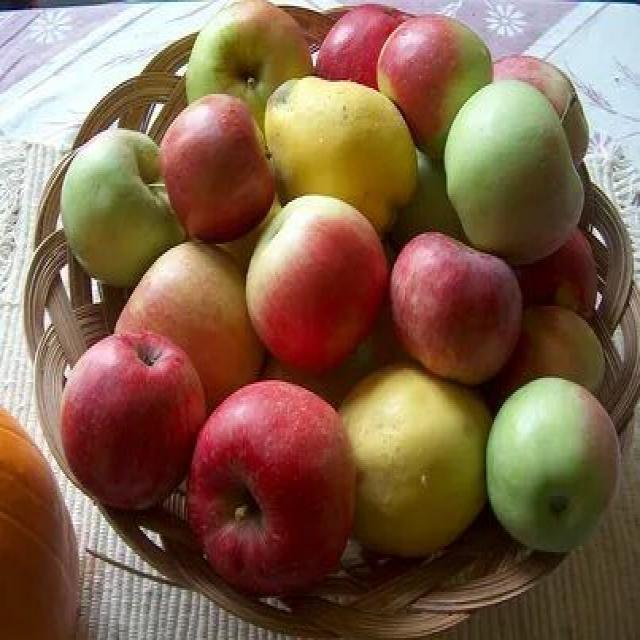fresh_apple: (190, 380, 355, 598), (444, 78, 582, 266), (245, 189, 388, 369), (58, 336, 202, 514), (484, 381, 620, 555), (161, 95, 276, 245)
